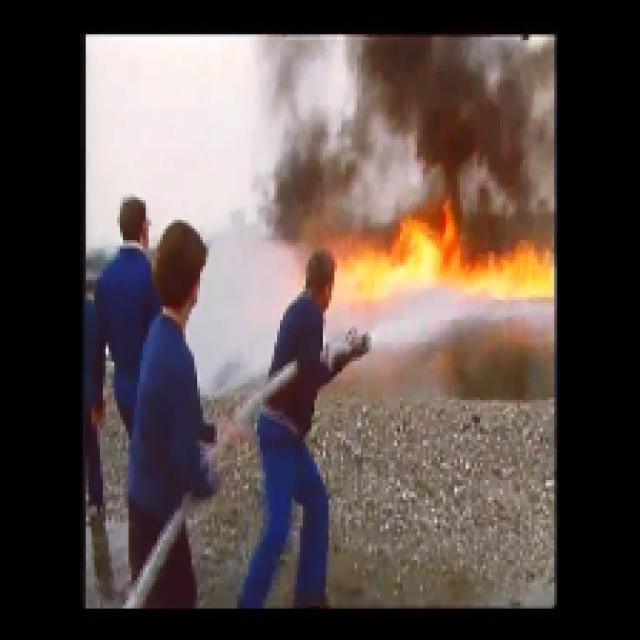Fire: (353, 230, 564, 296)
Smoke: (354, 44, 554, 198)
